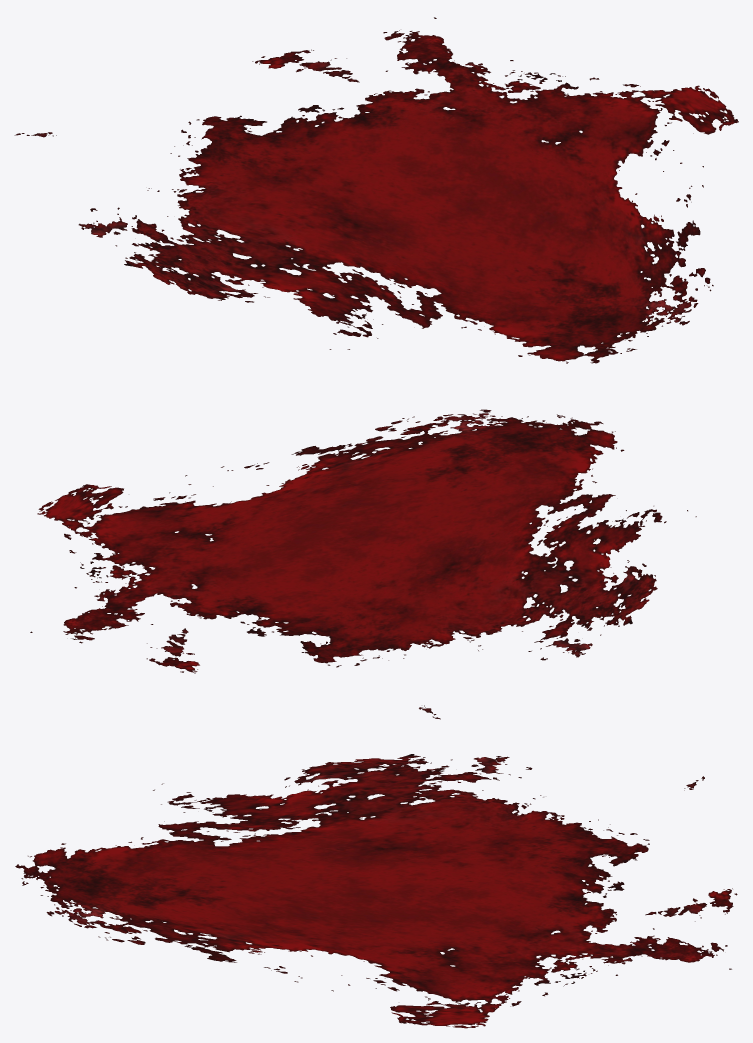
The model's file is bloodFloor.obj.
3 renders of one model, top to bottom at view 1: azimuth 30°, elevation 25°; view 2: azimuth 150°, elevation 25°; view 3: azimuth 270°, elevation 25°, orthographic. The views are drawn at different scales.
Visible parts, largest first — view 1: Blood; view 2: Blood; view 3: Blood.
Boxes of the visible parts, box(x1,y1,x2,y2) form: Blood: box(14, 17, 738, 363); Blood: box(30, 409, 696, 719); Blood: box(15, 754, 737, 1028).
Size of the model in its own units: 1.11 by 0.000505 by 1.21.
